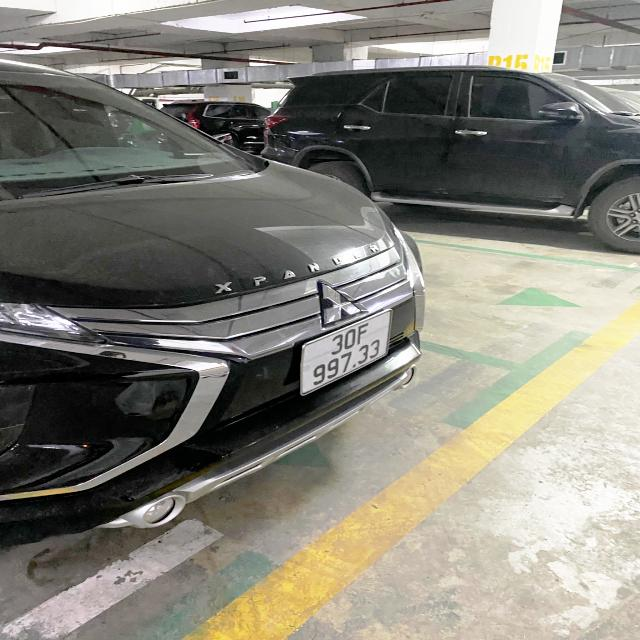license_plate: (299, 304, 398, 406)
